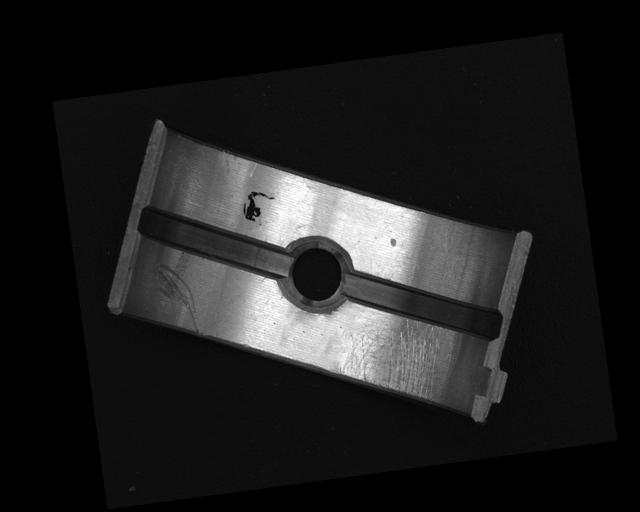blot: (239, 187, 279, 224)
bruise: (388, 236, 398, 248)
gap: (343, 252, 504, 359), (133, 188, 293, 295)
hole: (279, 235, 353, 310)
nick: (151, 257, 201, 339)
scratch: (330, 312, 465, 412)
